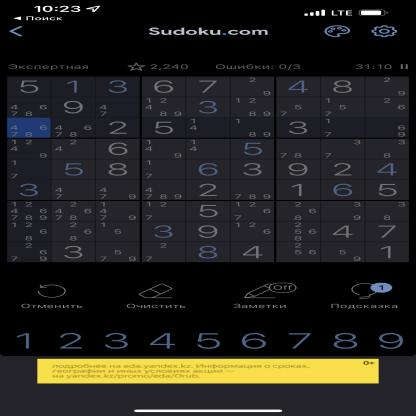sudoku: (1, 73, 416, 265)
